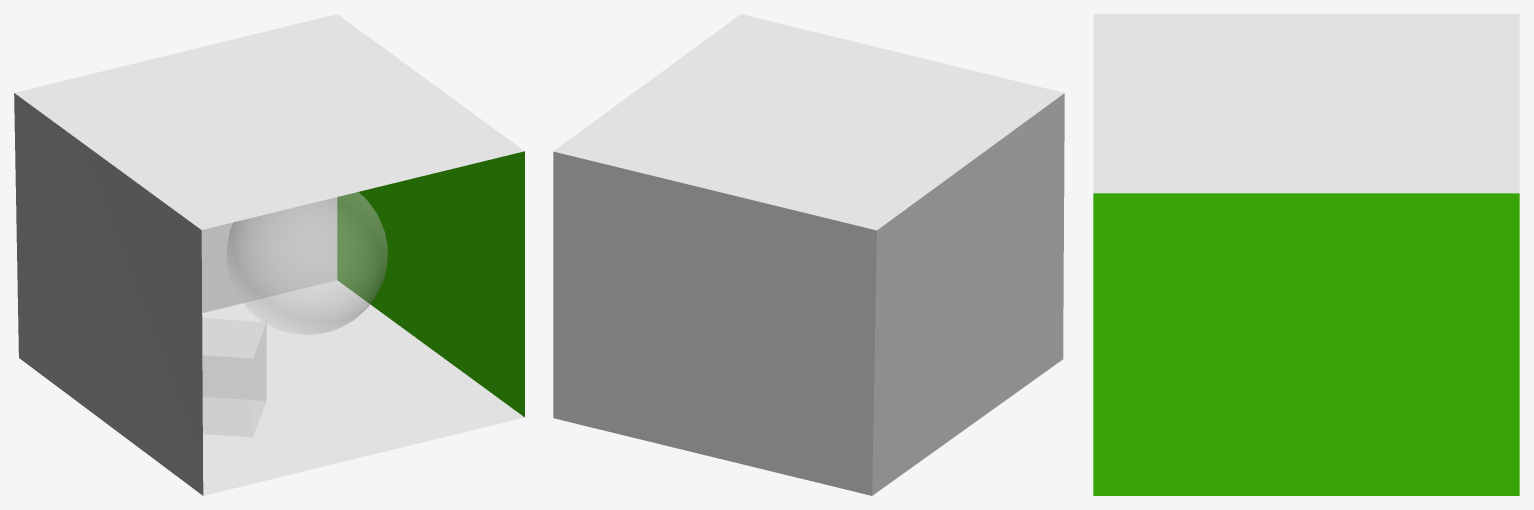
Rendered from cornel.gltf.
3 renders of one model, left to right at view 1: azimuth 30°, elevation 25°; view 2: azimuth 150°, elevation 25°; view 3: azimuth 270°, elevation 25°, orthographic. The views are drawn at different scales.
Visible parts, largest first — view 1: white.002, red, white, green, CornellBox-Glossy-Floor.002, white.001, CornellBox-Glossy-Floor.003; view 2: white.001, white.002, red; view 3: green, white.002.
Boxes of the visible parts, x1,y1,x2,y2 form: white.002: [14, 14, 524, 229]; red: [14, 93, 203, 495]; white: [202, 280, 524, 495]; green: [337, 151, 524, 417]; CornellBox-Glossy-Floor.002: [227, 192, 387, 334]; white.001: [201, 197, 337, 312]; CornellBox-Glossy-Floor.003: [202, 318, 266, 436]; white.001: [553, 151, 876, 495]; white.002: [553, 14, 1064, 230]; red: [872, 93, 1064, 495]; green: [1093, 193, 1519, 495]; white.002: [1093, 14, 1519, 193].
Bounding box in the file's own units: 2.02 × 1.59 × 2.03.
